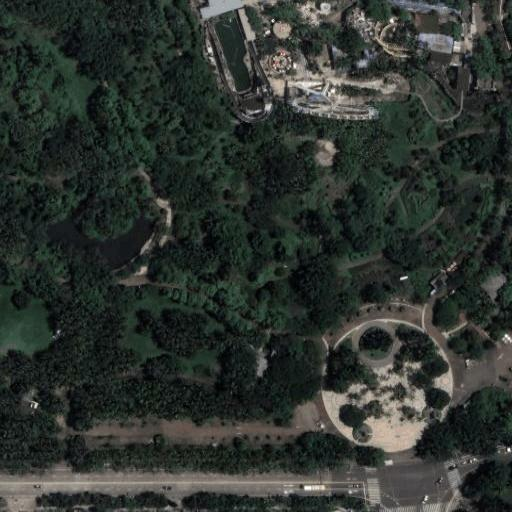building: (283, 85, 377, 125), (473, 265, 512, 303), (377, 0, 449, 12), (237, 6, 259, 42), (418, 31, 453, 53), (414, 13, 441, 33), (474, 69, 498, 91), (328, 44, 348, 70), (495, 23, 512, 53), (454, 64, 471, 91), (351, 44, 368, 68), (430, 51, 453, 64), (449, 39, 466, 54), (275, 22, 290, 37), (495, 0, 506, 16), (365, 46, 377, 59), (452, 53, 463, 65)
